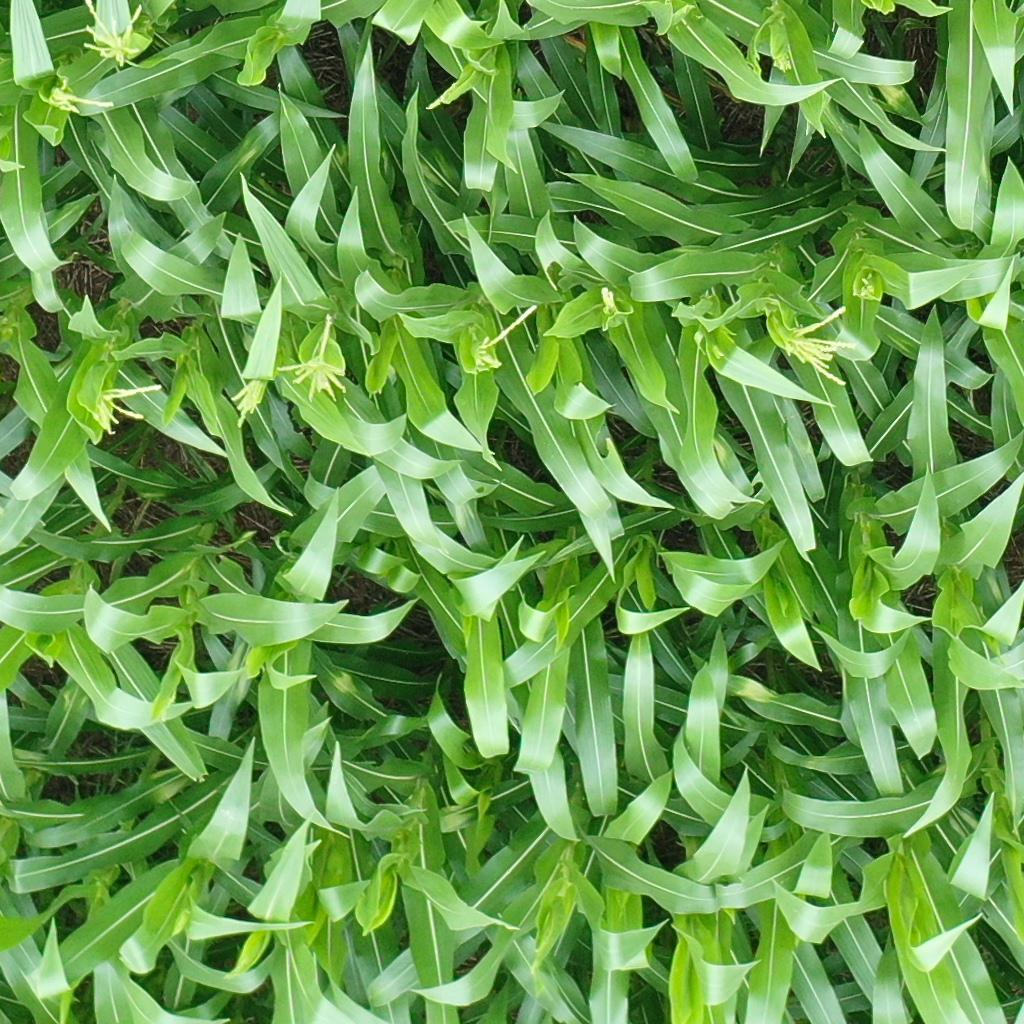Tassel: (277, 311, 354, 404), (778, 301, 858, 389), (469, 304, 540, 376), (78, 1, 143, 68), (88, 380, 163, 436), (33, 80, 113, 117), (229, 377, 270, 427), (593, 283, 625, 327), (424, 76, 458, 113), (769, 43, 794, 73), (854, 271, 878, 298)
